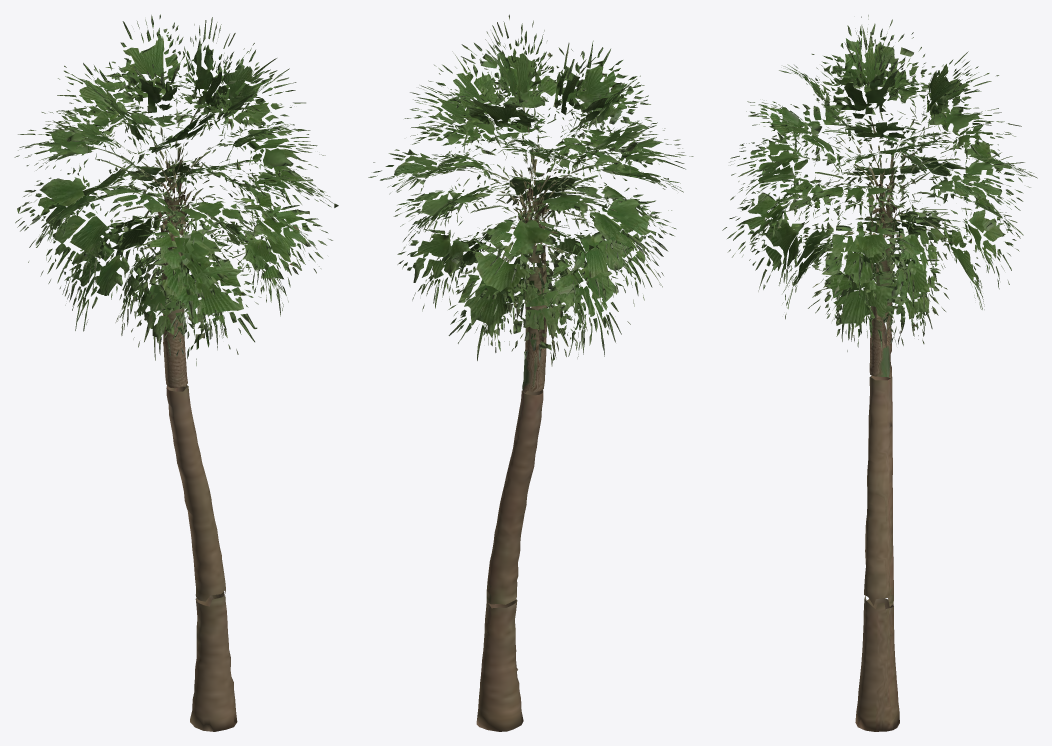
File: palm.glb
3 renders of one model, left to right at view 1: azimuth 30°, elevation 25°; view 2: azimuth 150°, elevation 25°; view 3: azimuth 270°, elevation 25°, orthographic. The views are drawn at different scales.
Size of the model in its own units: 0.7841 by 1.9 by 0.8051.
1 material, 1 textured.
